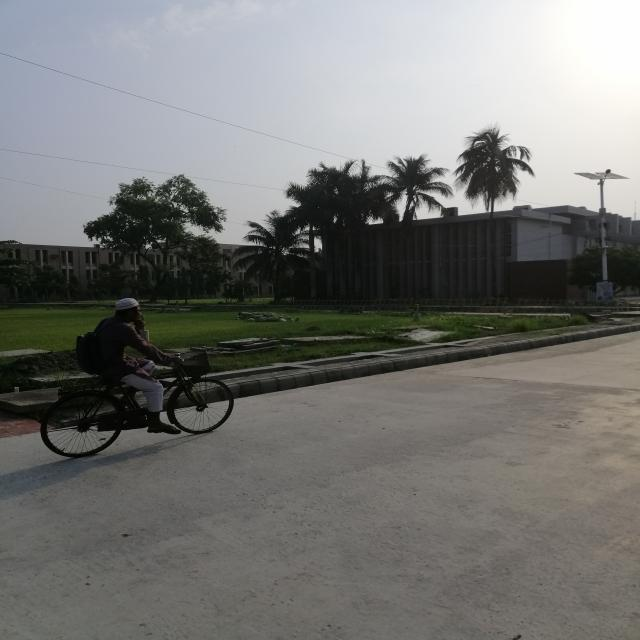Bicycle: (22, 348, 248, 464)
